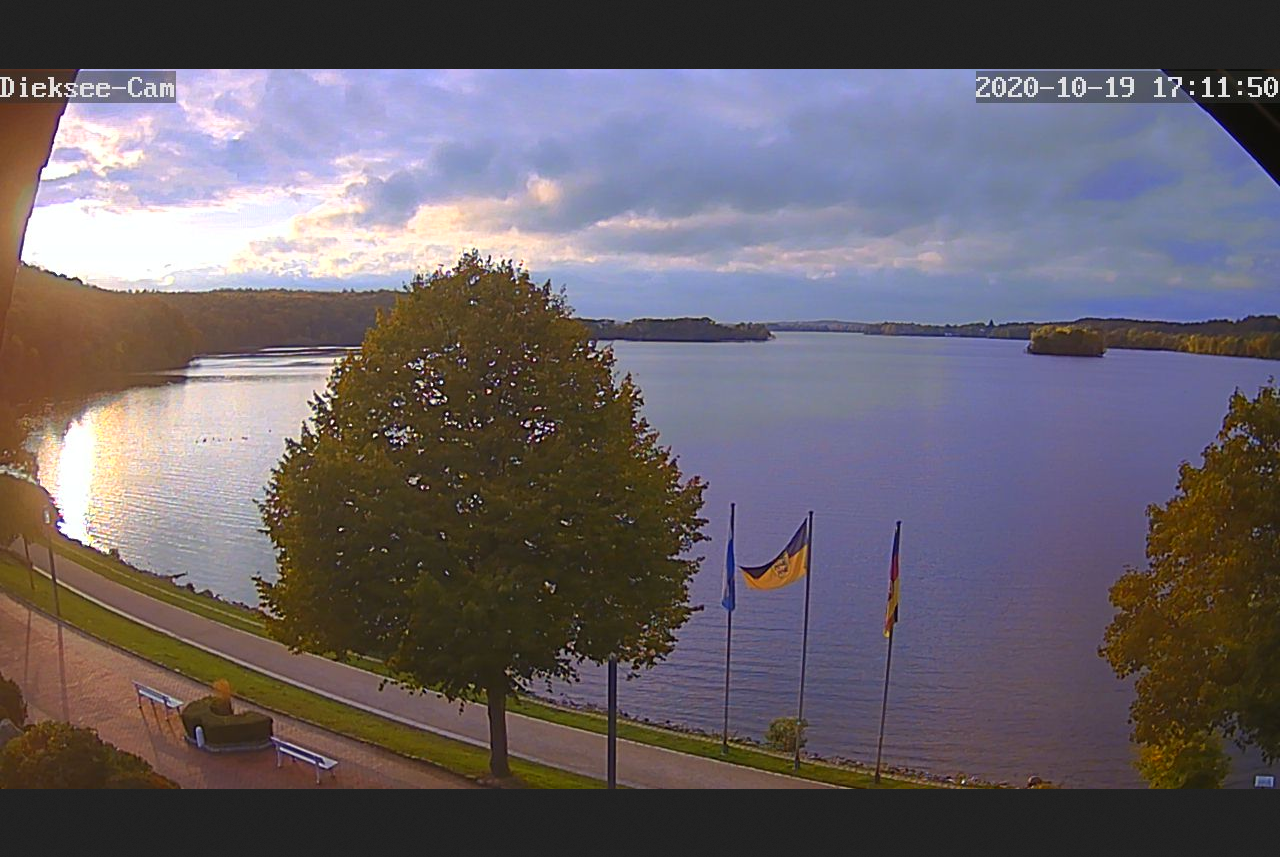maybe: (739, 516, 812, 591)
no: (885, 517, 899, 640), (723, 523, 733, 612)
